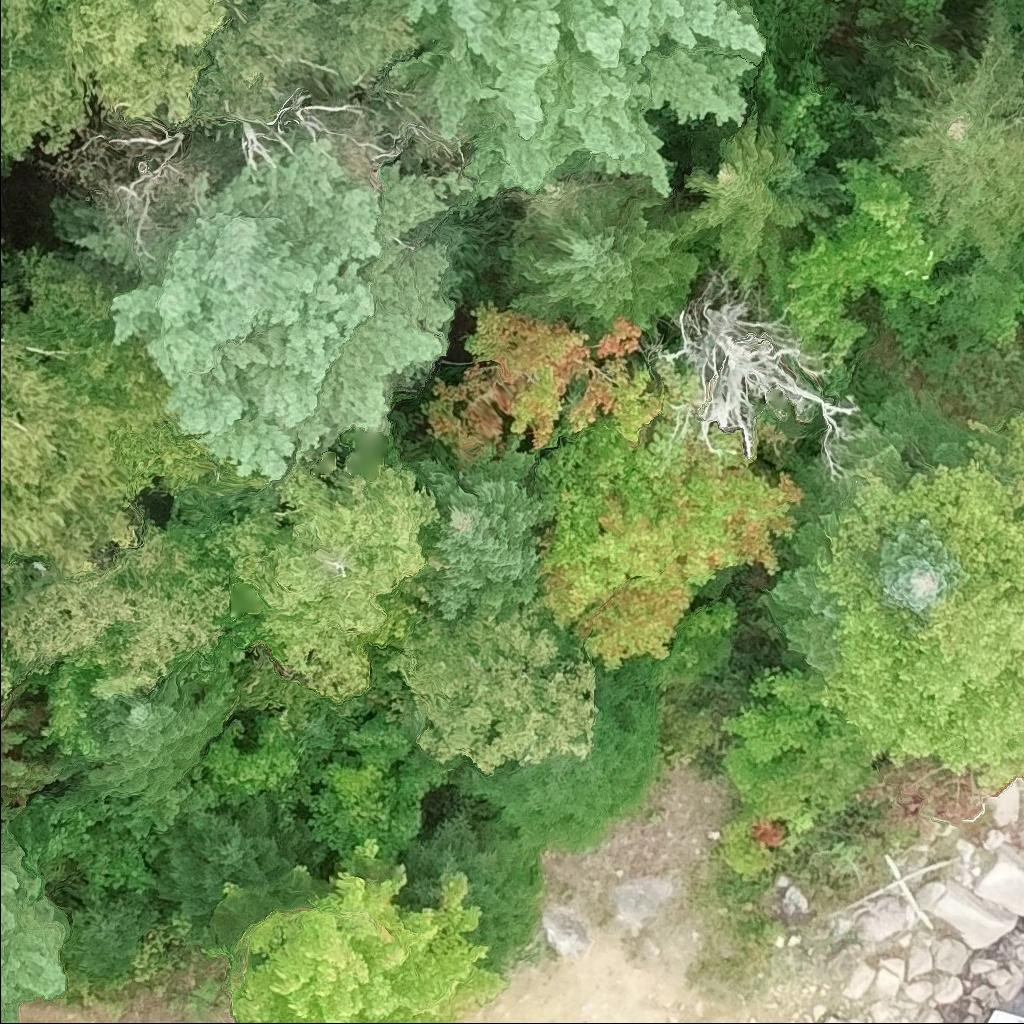crown: (105, 130, 478, 486), (390, 0, 769, 209), (816, 413, 1023, 793), (517, 417, 807, 672), (0, 241, 169, 593), (199, 461, 436, 695), (230, 839, 512, 1023), (853, 4, 1023, 271), (446, 660, 662, 852), (423, 299, 666, 467), (0, 0, 237, 167), (760, 155, 944, 364), (759, 418, 910, 670), (0, 521, 230, 681), (496, 185, 705, 359), (385, 609, 599, 777), (397, 435, 558, 622), (666, 108, 835, 286), (193, 0, 421, 115), (52, 675, 237, 805), (396, 808, 544, 967), (150, 794, 326, 926), (120, 415, 280, 532), (0, 828, 69, 1023), (866, 522, 974, 620), (60, 892, 164, 978), (0, 0, 46, 55), (0, 645, 19, 740), (0, 556, 22, 633), (0, 237, 18, 328)
